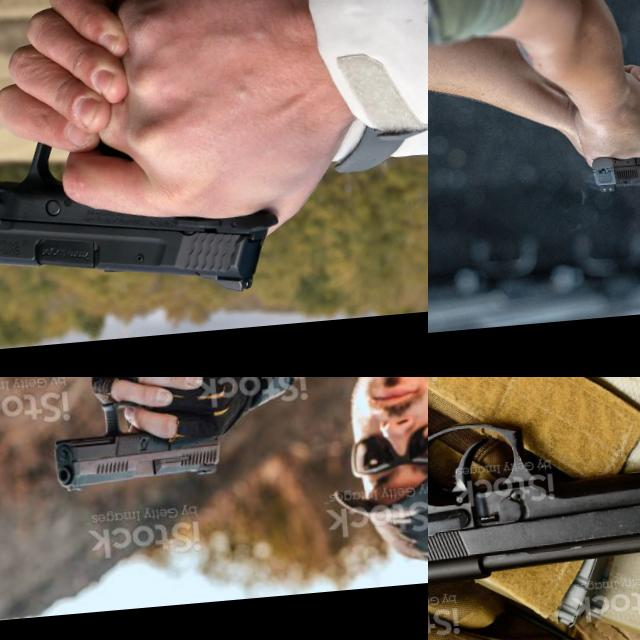handgun: (0, 118, 287, 321), (428, 377, 640, 610), (44, 388, 230, 494), (585, 132, 640, 199)
